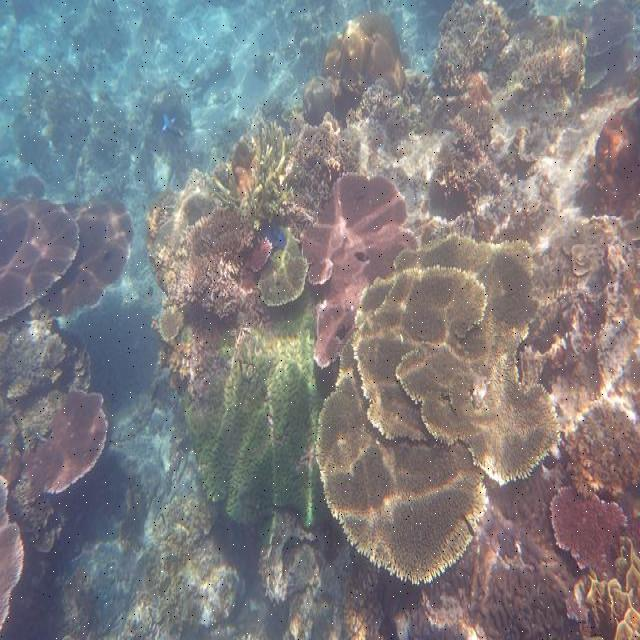aquatic plants: (211, 119, 296, 223)
reefs: (314, 233, 563, 581), (301, 172, 417, 368), (0, 194, 134, 321), (19, 389, 109, 494), (549, 487, 626, 578), (325, 12, 406, 92), (260, 249, 306, 308)
